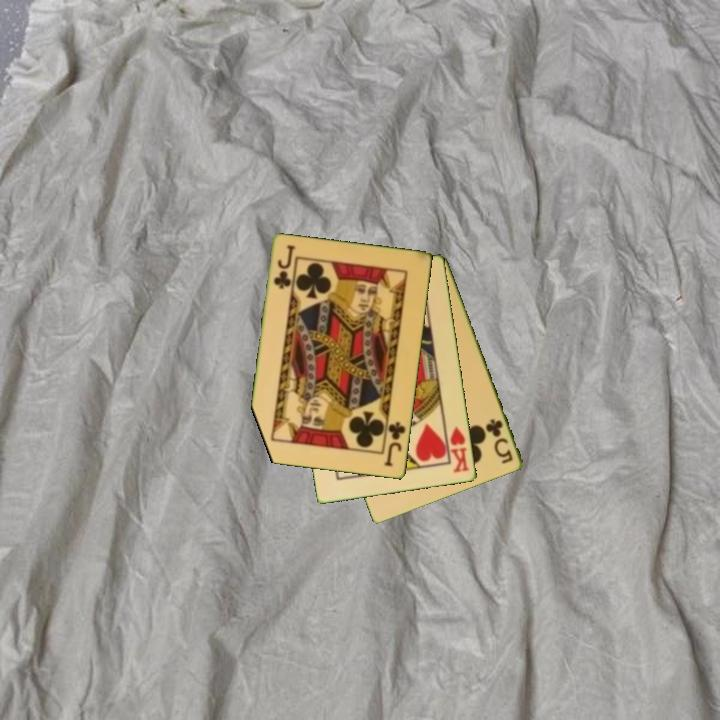5c: (482, 415, 516, 467)
Jc: (381, 419, 409, 469), (270, 242, 297, 292)
Kh: (442, 422, 472, 476)
